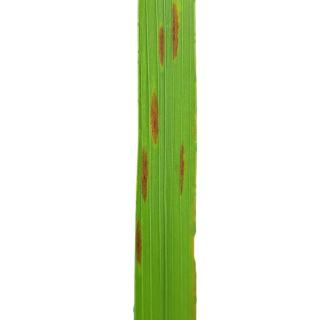Bercak-Cokelat-Sempit: (152, 4, 189, 65), (145, 89, 167, 144), (137, 146, 151, 208), (132, 217, 149, 267), (178, 144, 187, 202)
